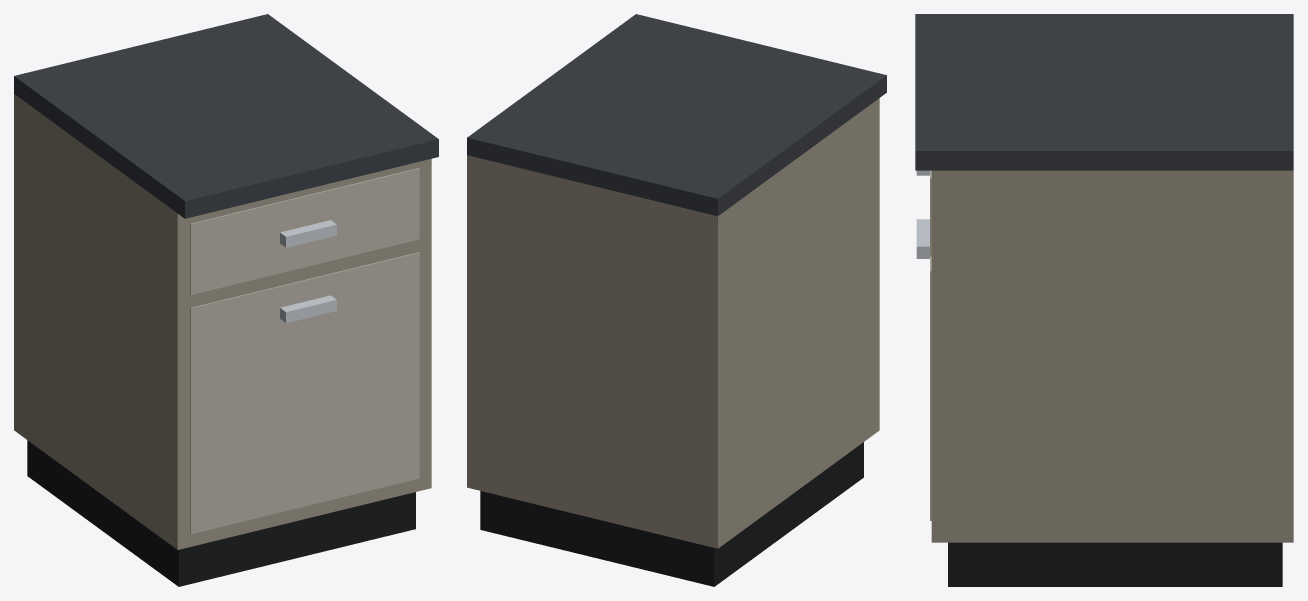
Rendered from kitchen_corner_cabinet_inner.glb.
3 renders of one model, left to right at view 1: azimuth 30°, elevation 25°; view 2: azimuth 150°, elevation 25°; view 3: azimuth 270°, elevation 25°, orthographic. The views are drawn at different scales.
Visible parts, largest first — view 1: kitchen_corner_cabinet_inner_Body; view 2: kitchen_corner_cabinet_inner_Body; view 3: kitchen_corner_cabinet_inner_Body.
Part boxes in pixels (x1,y1,x2,y2): kitchen_corner_cabinet_inner_Body: [14, 14, 438, 586]; kitchen_corner_cabinet_inner_Body: [467, 14, 886, 586]; kitchen_corner_cabinet_inner_Body: [915, 14, 1293, 586].
Size of the model in its own units: 0.6 by 0.9 by 0.7.
